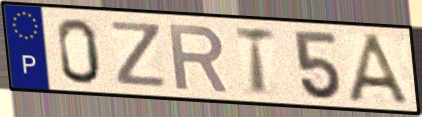0: (54, 15, 104, 86)
5: (290, 28, 343, 102)
A: (344, 31, 417, 108)
R: (166, 21, 231, 95)
T: (233, 24, 278, 98)
Z: (109, 19, 169, 90)
